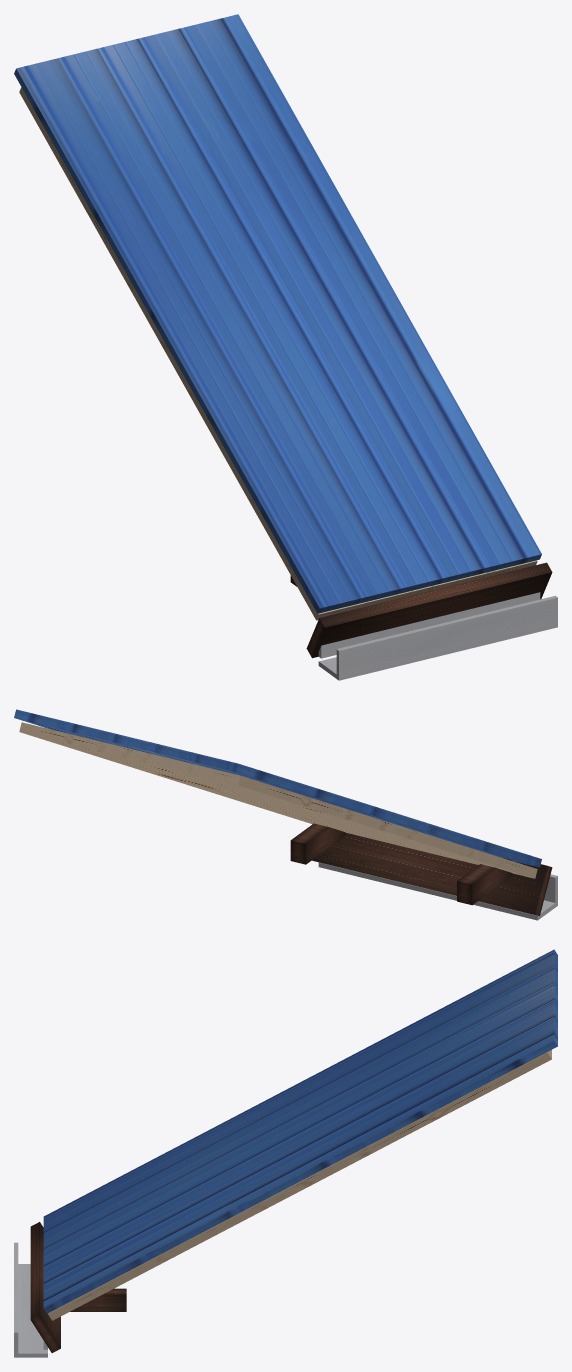
Rendered from Roof_Panel_1m.fbx.
3 views of the same model, one above another, from view 1: azimuth 30°, elevation 25°; view 2: azimuth 150°, elevation 25°; view 3: azimuth 270°, elevation 25° (orthographic). The views are drawn at different scales.
Visible parts, largest first — view 1: Roof_Panel_1m; view 2: Roof_Panel_1m; view 3: Roof_Panel_1m.
Part boxes in pixels (bbox=[...]): Roof_Panel_1m: bbox=[14, 14, 557, 680]; Roof_Panel_1m: bbox=[14, 709, 557, 920]; Roof_Panel_1m: bbox=[14, 949, 557, 1357].
Size of the model in its own units: 1.04 by 1.65 by 2.56.
